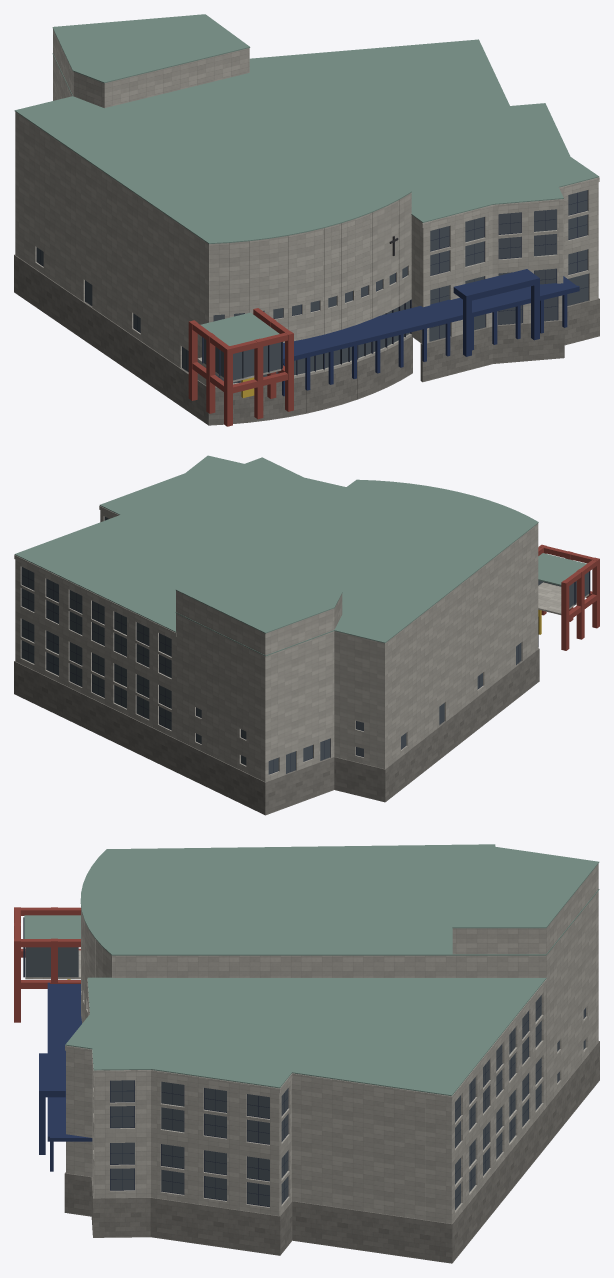
The picture shows the model from 3 angles, top to bottom: view 1: azimuth 30°, elevation 25°; view 2: azimuth 150°, elevation 25°; view 3: azimuth 270°, elevation 25°; orthographic projection. The views are drawn at different scales.
Visible parts, largest first — view 1: hankyungjik__roof, hankyungjik__stone, hankyungjik__base, hankyungjik__glass, hankyungjik__navy, hankyungjik__maroon, hankyungjik__frame; view 2: hankyungjik__stone, hankyungjik__roof, hankyungjik__base, hankyungjik__glass, hankyungjik__maroon, hankyungjik__frame; view 3: hankyungjik__roof, hankyungjik__stone, hankyungjik__base, hankyungjik__glass, hankyungjik__navy, hankyungjik__frame, hankyungjik__maroon.
Boxes of the visible parts, <box> form: hankyungjik__roof: <box>14,14,599,345</box>; hankyungjik__stone: <box>15,29,599,387</box>; hankyungjik__base: <box>14,254,599,425</box>; hankyungjik__glass: <box>37,190,588,383</box>; hankyungjik__navy: <box>282,269,579,396</box>; hankyungjik__maroon: <box>188,308,293,426</box>; hankyungjik__frame: <box>36,190,588,382</box>; hankyungjik__stone: <box>14,506,588,781</box>; hankyungjik__roof: <box>14,455,586,656</box>; hankyungjik__base: <box>14,648,539,815</box>; hankyungjik__glass: <box>22,517,588,773</box>; hankyungjik__maroon: <box>538,544,599,650</box>; hankyungjik__frame: <box>21,517,590,774</box>; hankyungjik__roof: <box>24,844,599,1095</box>; hankyungjik__stone: <box>25,864,598,1223</box>; hankyungjik__base: <box>64,1041,599,1263</box>; hankyungjik__glass: <box>25,947,585,1209</box>; hankyungjik__navy: <box>39,982,92,1171</box>; hankyungjik__frame: <box>23,917,585,1207</box>; hankyungjik__maroon: <box>14,907,80,1022</box>.
Bounding box in the file's own units: 64.99 × 28.06 × 68.11.
9 materials, 2 textured.
